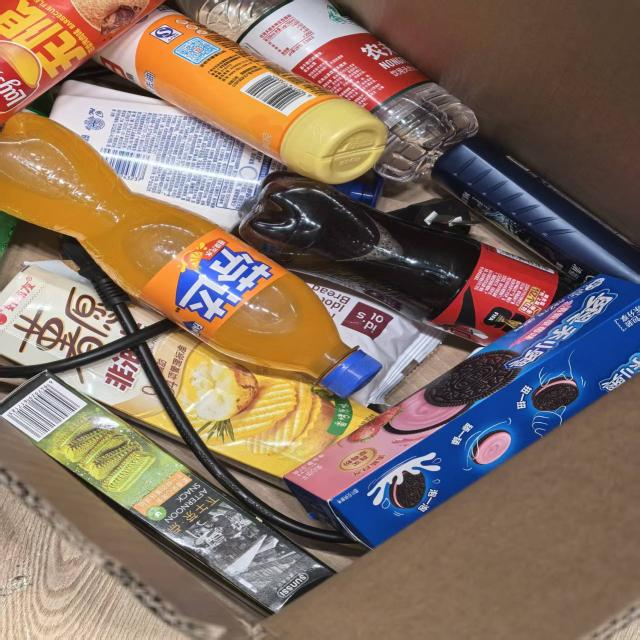orange: (165, 236, 280, 322)
